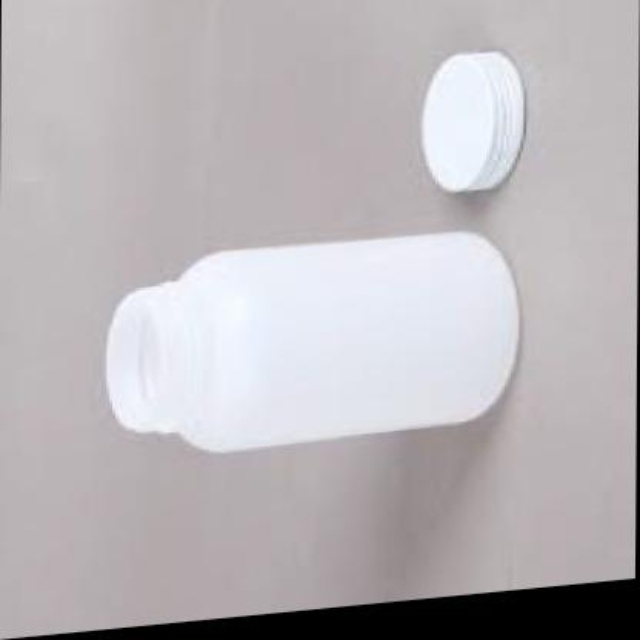trash: (106, 232, 517, 451), (422, 51, 523, 191)
